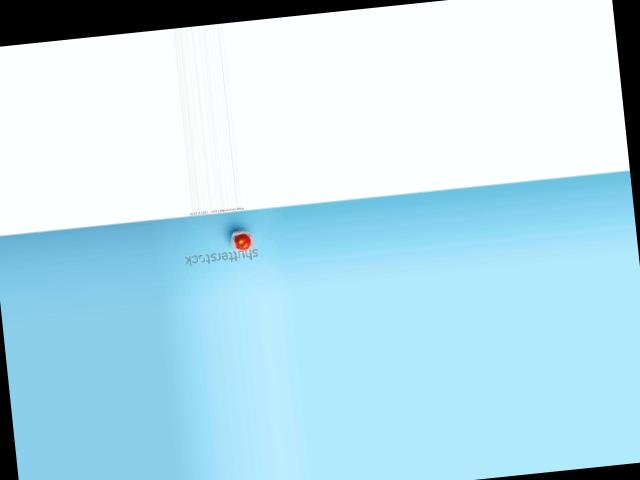tomato: (233, 233, 250, 250)
